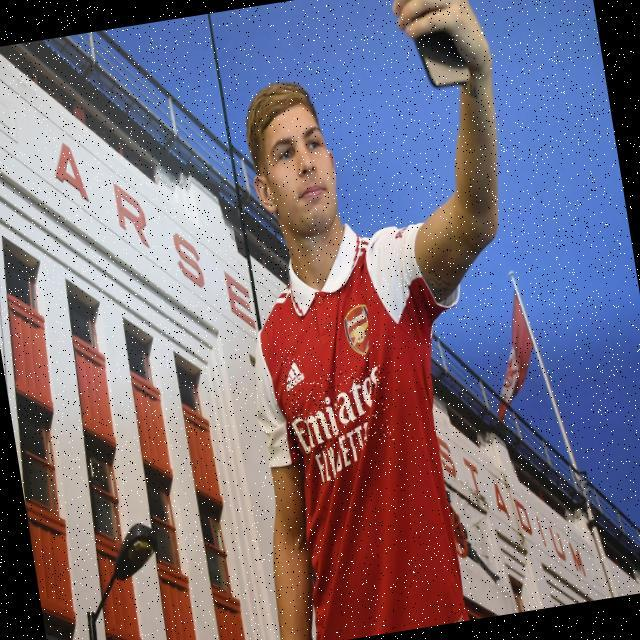Adidas: (280, 355, 308, 394)
Emirates: (283, 365, 396, 456)
